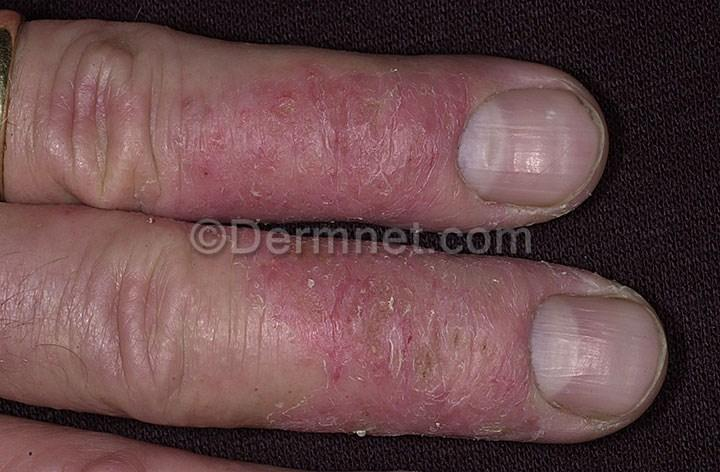Eczema: (286, 270, 517, 440), (173, 77, 458, 214)
